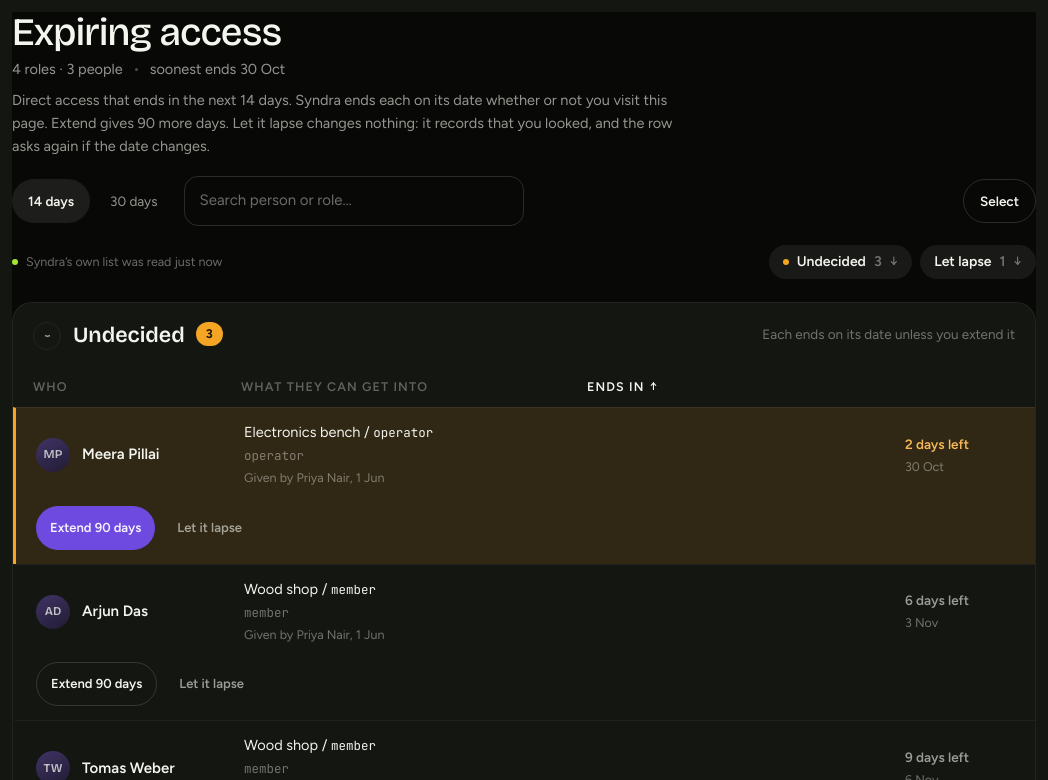
Test: Expiring access — search › finds a person by name across both cards, and the lede counts what matched
This screenshot has width=1048, height=780.
Type "arjun" into the field named "Search expiring access by person or role".
click(354, 201); type("arjun")  # box [184,176,524,226]
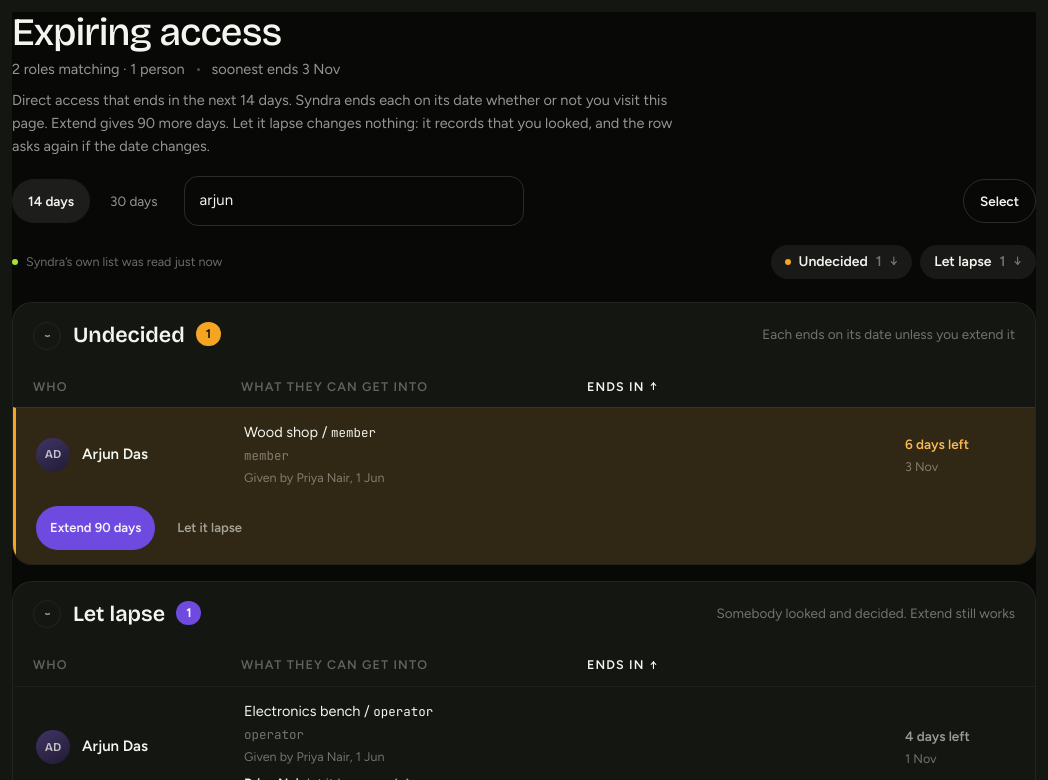
Check: the text "Arjun Das" in the row of "6 days left" is shown, box [82,445,148,463]
Check: the link "Meera Pillai" is gone
Check: the text "2 roles matching · 1 person" is shown, box [12,58,185,81]
